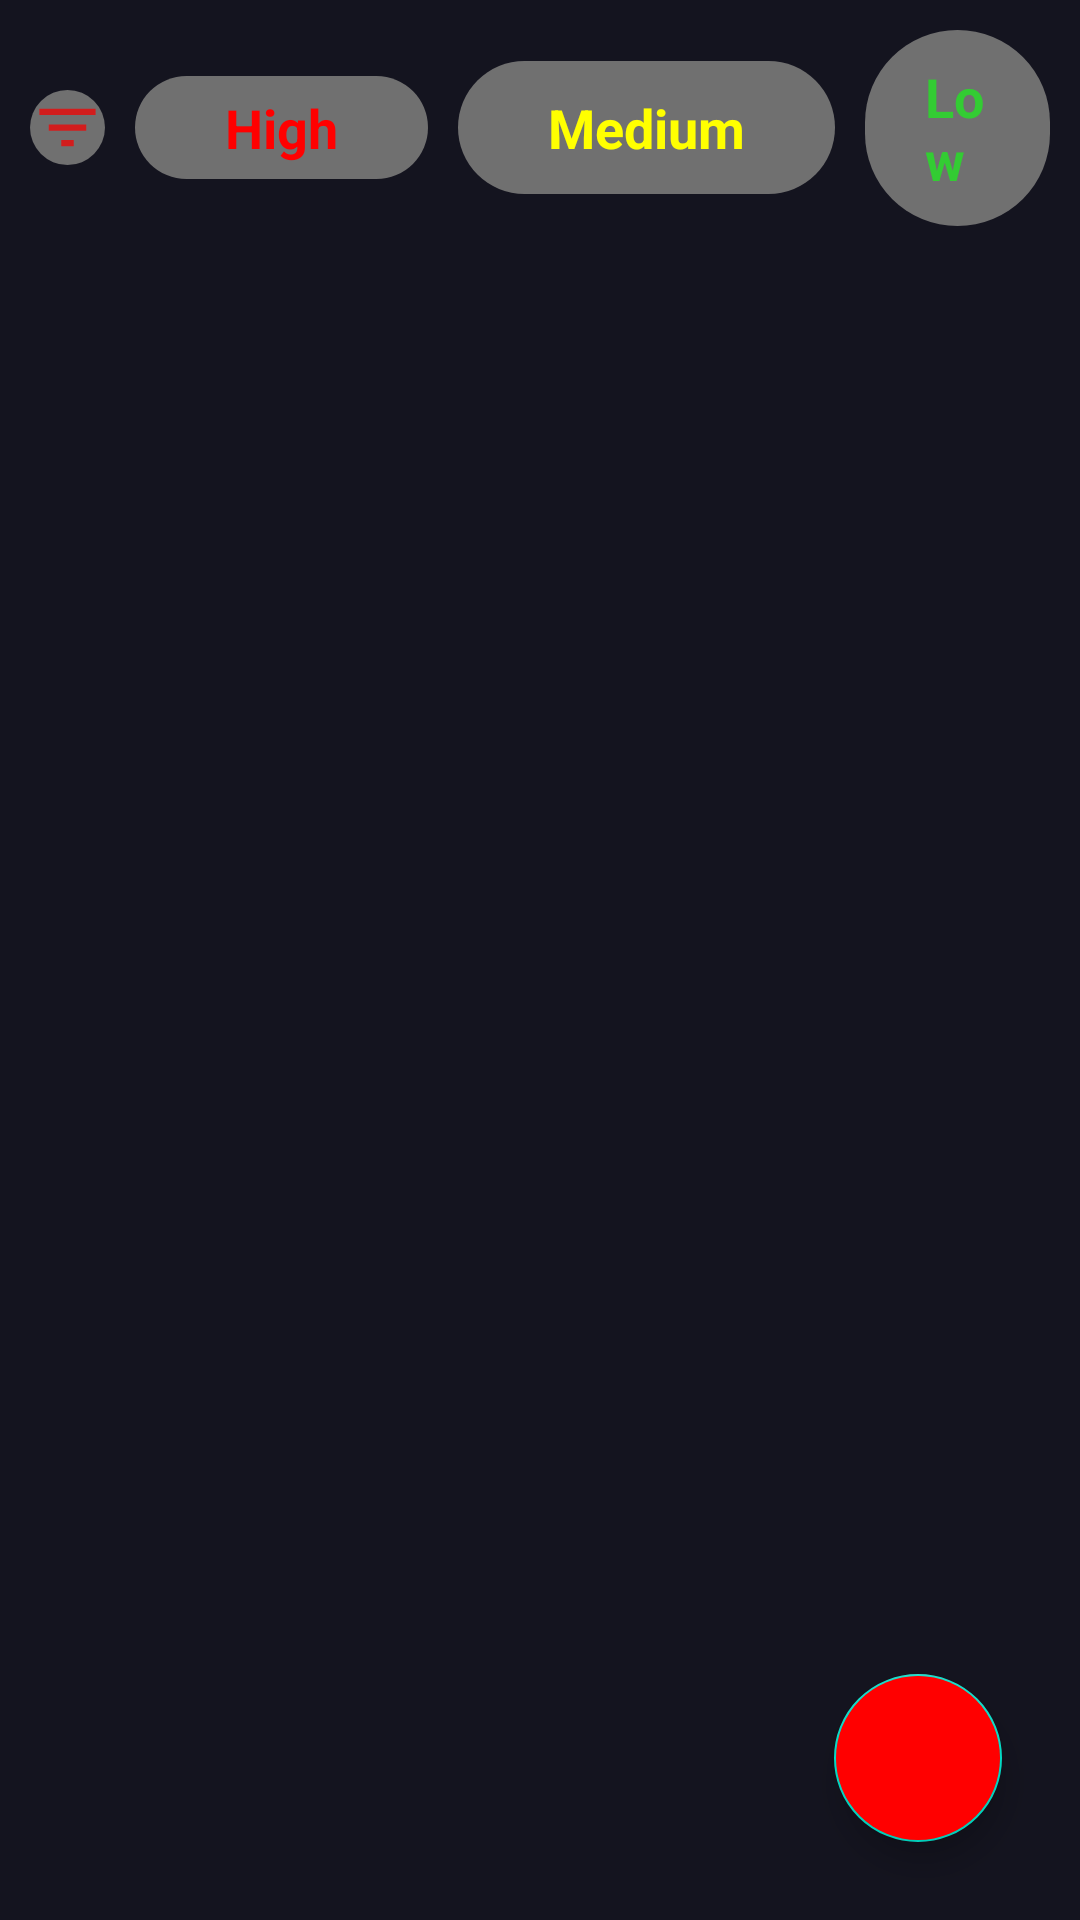

Screen size 1080 x 1920. Icon name, then its box in pixels as {"left": x1, "top": y1, "right": x2, "bottom": y2}:
filter list: {"left": 30, "top": 90, "right": 105, "bottom": 165}
